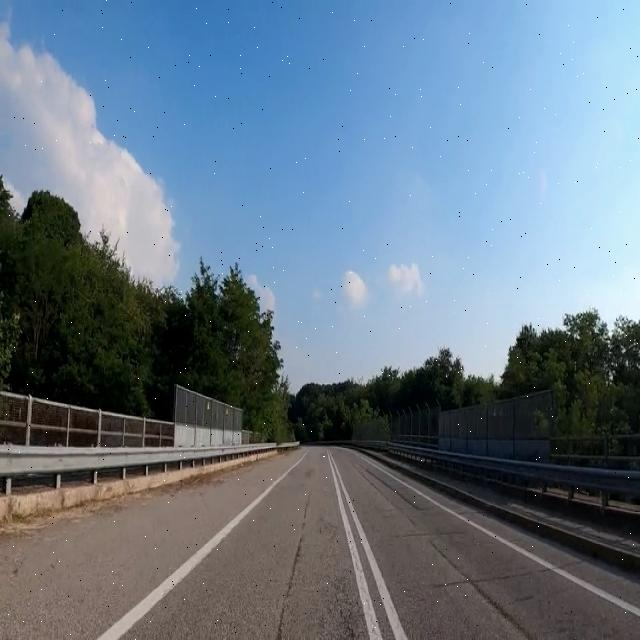lane: (365, 458, 640, 617), (99, 454, 305, 639), (333, 459, 407, 639), (328, 451, 381, 640)
road: (1, 446, 640, 638)
